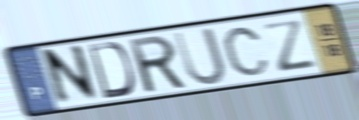C: (221, 25, 272, 78)
D: (86, 40, 136, 101)
N: (42, 41, 101, 109)
R: (126, 33, 190, 96)
U: (170, 25, 229, 88)
Z: (259, 16, 319, 74)
